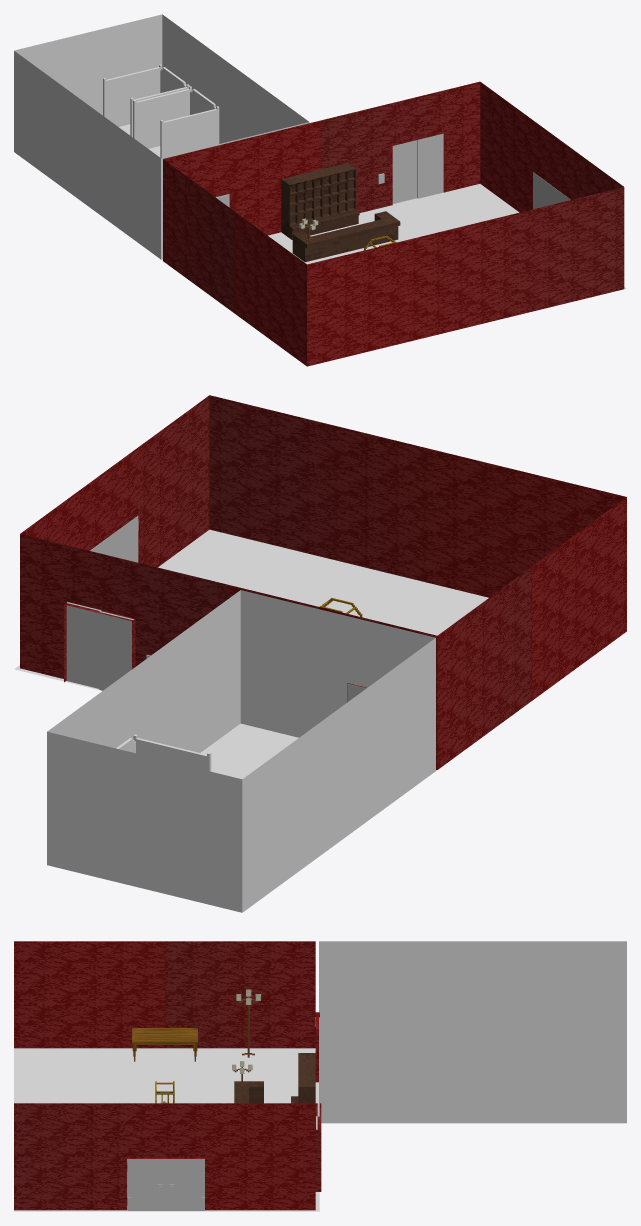
File: Hote_Auberge - Hotel Lobby.fbx
The picture shows the model from 3 angles, top to bottom: view 1: azimuth 30°, elevation 25°; view 2: azimuth 150°, elevation 25°; view 3: azimuth 270°, elevation 25°; orthographic projection. The views are drawn at different scales.
Visible parts, largest first — view 1: Lobby Walls, BR_Walls, Cube, Stall.001, Key Cabinet, Stall, Desk, ElevatorDoor1, ElevatorDoor2, Door.1, DoorFrameTall; view 2: Lobby Walls, BR_Walls, Cube, BR_Floor, ElevatorDoor1, ElevatorDoor2, Stall.001, Door.002; view 3: Lobby Walls, BR_Walls, Cube, Door.002, Door.1, Table, Key Cabinet, Desk, Fancy Lamp.Tall.
Boxes of the visible parts, x1=… form: Lobby Walls: x1=163, y1=81, x2=624, y2=366; BR_Walls: x1=14, y1=14, x2=309, y2=259; Cube: x1=161, y1=184, x2=626, y2=288; Stall.001: x1=133, y1=86, x2=219, y2=157; Key Cabinet: x1=281, y1=163, x2=359, y2=239; Stall: x1=103, y1=64, x2=189, y2=137; Desk: x1=292, y1=211, x2=400, y2=262; ElevatorDoor1: x1=417, y1=133, x2=443, y2=198; ElevatorDoor2: x1=392, y1=140, x2=417, y2=203; Door.1: x1=533, y1=172, x2=551, y2=209; DoorFrameTall: x1=390, y1=130, x2=446, y2=205; Lobby Walls: x1=20, y1=395, x2=626, y2=769; BR_Walls: x1=47, y1=590, x2=435, y2=912; Cube: x1=14, y1=529, x2=488, y2=770; BR_Floor: x1=200, y1=723, x2=298, y2=779; ElevatorDoor1: x1=66, y1=602, x2=101, y2=688; ElevatorDoor2: x1=99, y1=611, x2=133, y2=690; Stall.001: x1=116, y1=734, x2=211, y2=771; Door.002: x1=114, y1=516, x2=138, y2=562; Lobby Walls: x1=14, y1=941, x2=321, y2=1210; BR_Walls: x1=319, y1=941, x2=626, y2=1123; Cube: x1=14, y1=1048, x2=319, y2=1211; Door.002: x1=127, y1=1159, x2=166, y2=1210; Door.1: x1=166, y1=1159, x2=204, y2=1210; Table: x1=132, y1=1028, x2=197, y2=1061; Key Cabinet: x1=291, y1=1053, x2=315, y2=1103; Desk: x1=234, y1=1081, x2=263, y2=1103; Fancy Lamp.Tall: x1=236, y1=989, x2=260, y2=1057.
Bounding box in the file's own units: 7518 × 2299 × 11816.
